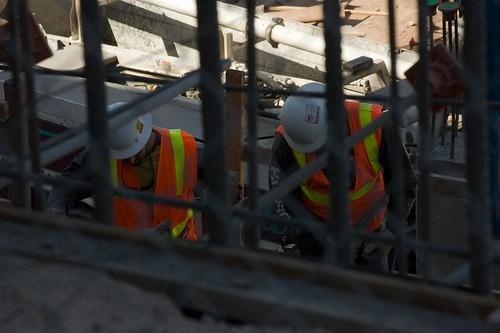vest: (274, 97, 388, 227), (108, 126, 198, 241)
